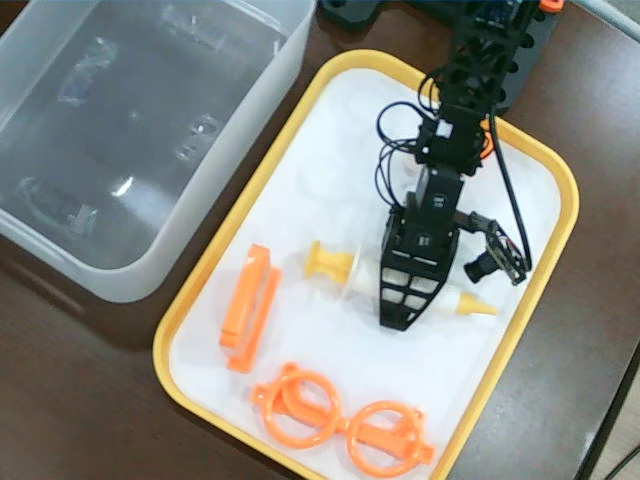syringe: (302, 238, 499, 321)
